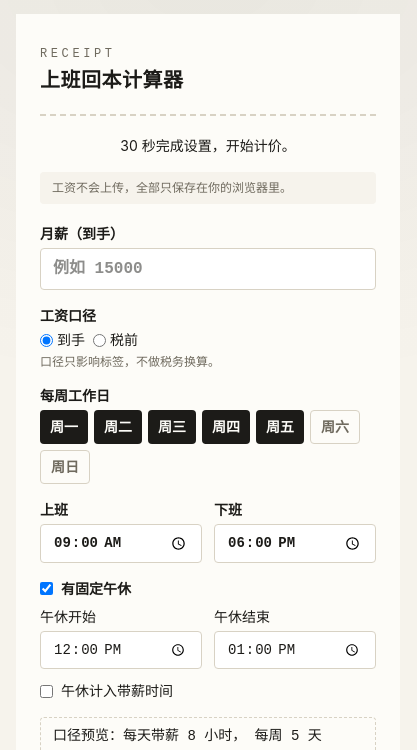
Test: App › 完成设置后进入今日面板，并上报 setup_completed 与工厂标准 generate
The image size is (417, 750).
In the number field labelled "月薪": (208, 269) [40,248,376,290], type "15000"
(page scrolled)
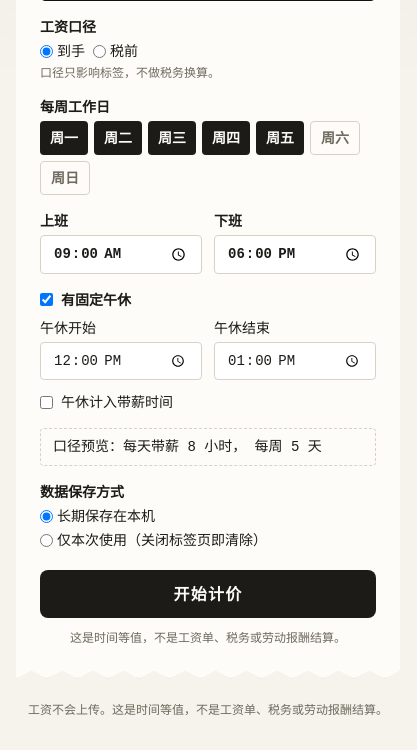
Click the button "开始计价": (208, 594) [40,570,376,618]
(page scrolled)
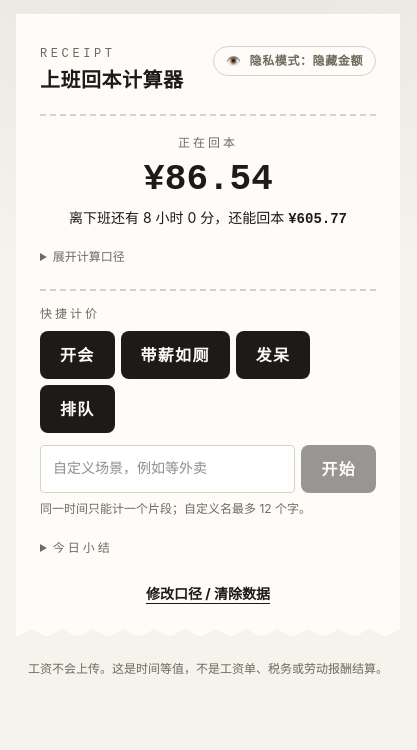
Expected: the text "正在回本" is shown, [178,137,238,151]
